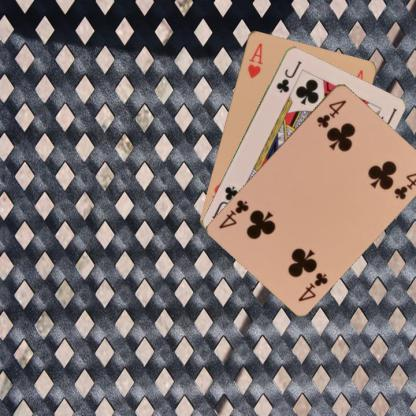4c: (294, 269, 330, 303), (314, 96, 348, 129)
Ah: (245, 40, 264, 80)
Jc: (273, 58, 303, 93)
